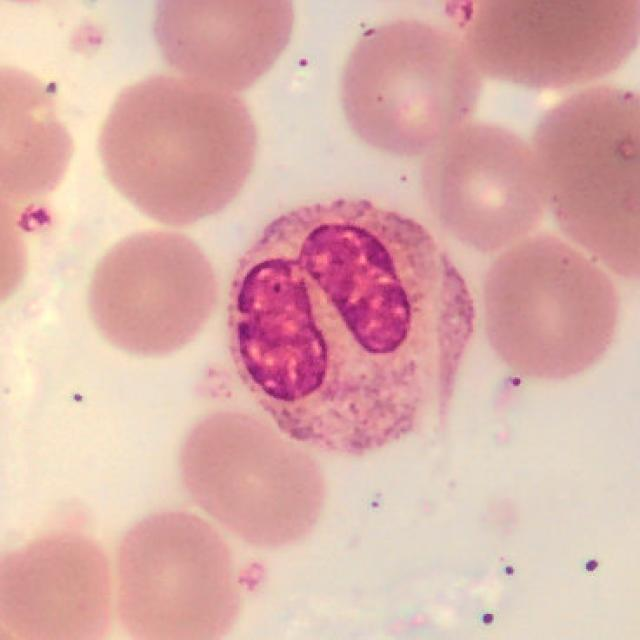Neutrofilo segmentado: (226, 199, 477, 457)
